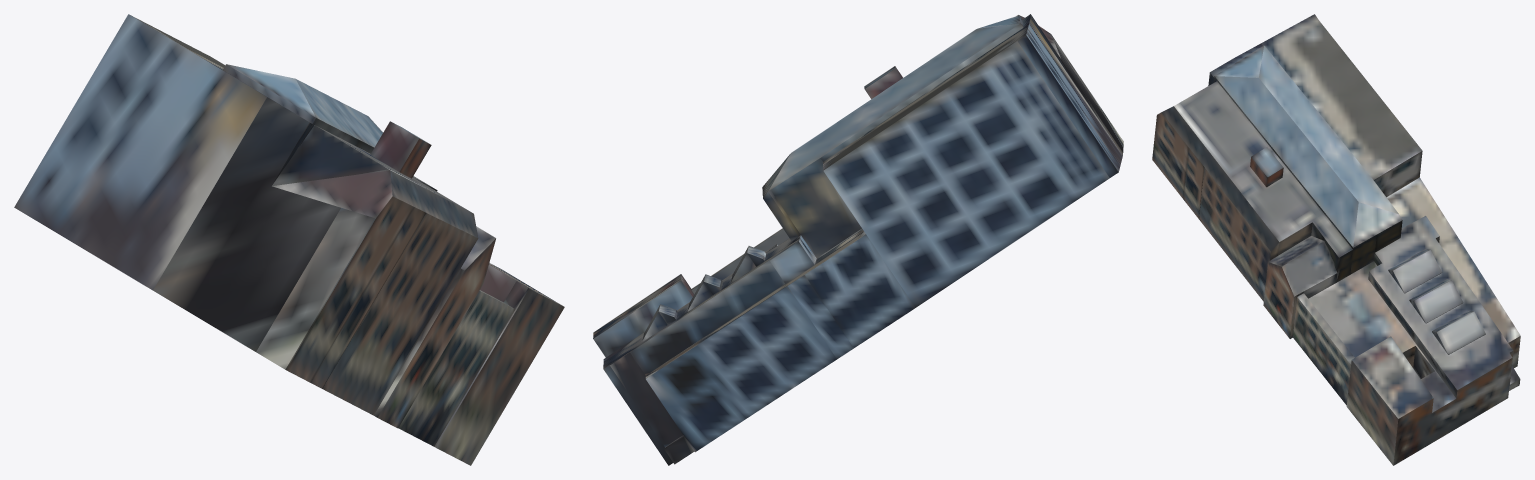
The picture shows the model from 3 angles, left to right: view 1: azimuth 30°, elevation 25°; view 2: azimuth 150°, elevation 25°; view 3: azimuth 270°, elevation 25°; orthographic projection. The views are drawn at different scales.
Parts seen in each view (by area): view 1: BAG_0599100000760345 (×6); view 2: BAG_0599100000760345 (×6); view 3: BAG_0599100000760345 (×7).
Part boxes in pixels (left/top/right/bottom): BAG_0599100000760345 (×6): left=14, top=14, right=564, bottom=465; BAG_0599100000760345 (×6): left=593, top=14, right=1123, bottom=465; BAG_0599100000760345 (×7): left=1152, top=14, right=1520, bottom=465.
Bounding box in the file's own units: 49.35 × 45.16 × 44.5.
Materials: 1 (1 with a texture image).
